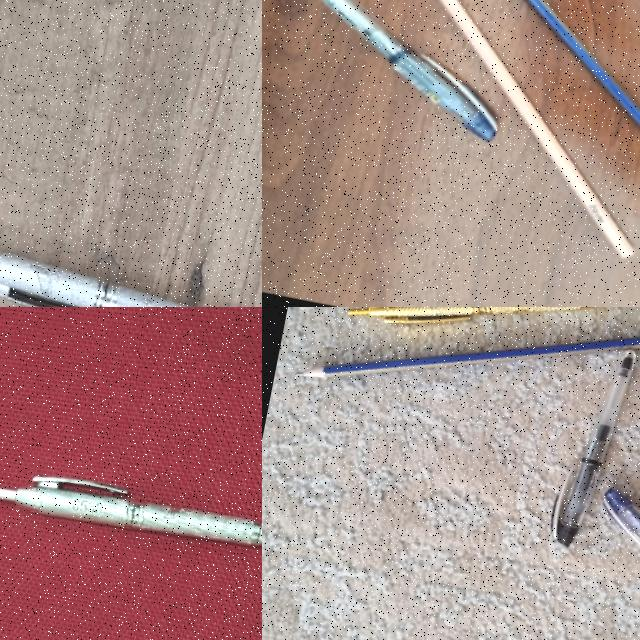pen: (322, 0, 496, 139), (550, 340, 636, 552), (579, 487, 640, 640)
pencil: (439, 0, 633, 257), (525, 0, 640, 127), (297, 338, 640, 377)
signature pen: (0, 476, 261, 545), (350, 307, 612, 365), (0, 252, 184, 306)
